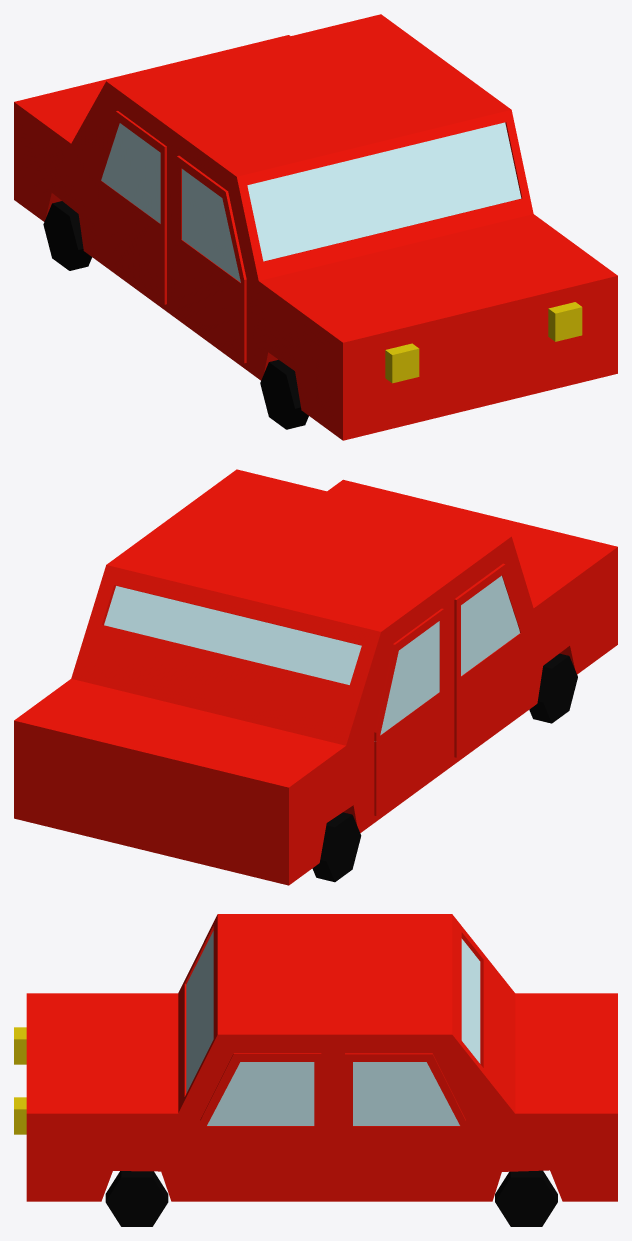
The model's file is Coche  Rojo.fbx.
The picture shows the model from 3 angles, top to bottom: view 1: azimuth 30°, elevation 25°; view 2: azimuth 150°, elevation 25°; view 3: azimuth 270°, elevation 25°; orthographic projection. The views are drawn at different scales.
Parts seen in each view (by area): view 1: Cube, Cube.010, Cube.004, Cube.005, Cube.009, Cube.008, Cube.002, Cylinder.002, Cylinder.003; view 2: Cube, Cube.011, Cube.005, Cube.004, Cube.009, Cube.008, Cylinder.003, Cylinder.002; view 3: Cube, Cube.001, Cube.003, Cube.006, Cube.007, Cube.010, Cylinder, Cylinder.001, Cube.011, Cube.002.
Part boxes in pixels (box(x1,y1,x2,y2)): Cube: box(14, 14, 617, 440); Cube.010: box(247, 122, 521, 261); Cube.004: box(176, 155, 246, 363); Cube.005: box(97, 111, 166, 304); Cube.009: box(101, 123, 160, 223); Cube.008: box(182, 169, 240, 282); Cube.002: box(385, 302, 582, 383); Cylinder.002: box(260, 359, 308, 429); Cylinder.003: box(43, 201, 92, 270); Cube: box(14, 469, 617, 885); Cube.011: box(104, 586, 361, 684); Cube.005: box(374, 608, 443, 815); Cube.004: box(454, 563, 523, 757); Cube.009: box(374, 621, 439, 741); Cube.008: box(461, 575, 519, 675); Cylinder.003: box(312, 812, 361, 882); Cylinder.002: box(529, 653, 577, 723); Cube: box(26, 914, 617, 1201); Cube.001: box(345, 1053, 465, 1196); Cube.003: box(200, 1053, 321, 1195); Cube.006: box(207, 1062, 314, 1125); Cube.007: box(353, 1062, 459, 1125); Cube.010: box(186, 931, 213, 1093); Cylinder: box(105, 1171, 168, 1226); Cylinder.001: box(495, 1170, 557, 1226); Cube.011: box(461, 938, 480, 1063); Cube.002: box(14, 1027, 26, 1134).
Size of the model in its own units: 173 by 125 by 358.
